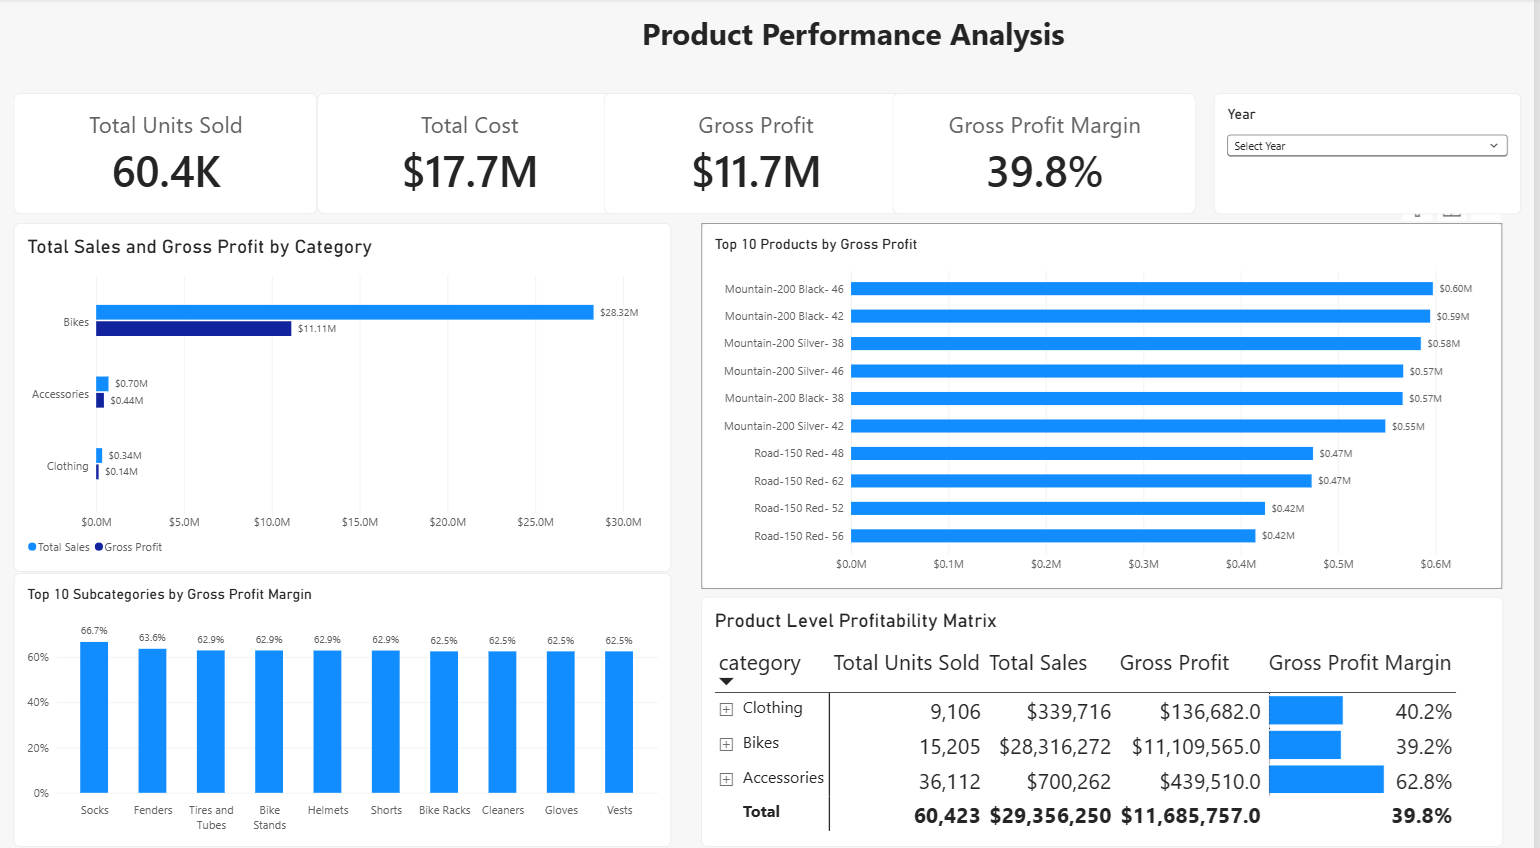

The dashboard page shown, as its layout file describes it:
{"tool":"powerbi","page":{"name":"Product Performance","canvas":[1920,1080],"ordinal":1},"visuals":[{"type":"textbox","box":[758.7,18,622,100.7],"z":0},{"type":"cardVisual","fields":{"Data":["gold_datasets sales.Total Units Sold"]},"box":[23.8,119,378.7,151.5],"z":1000},{"type":"cardVisual","fields":{"Data":["gold_datasets sales.Total Cost"]},"box":[402.5,119,378.7,151.5],"z":2000},{"type":"cardVisual","fields":{"Data":["gold_datasets sales.Gross Profit"]},"box":[759.6,119,378.7,151.5],"z":3000},{"type":"cardVisual","fields":{"Data":["gold_datasets sales.Gross Profit Margin"]},"box":[1118.9,119,378.7,151.5],"z":4000},{"type":"clusteredBarChart","title":"Total Sales and Gross Profit by Category","fields":{"Category":["gold_datasets products.category"],"Y":["gold_datasets sales.Total Sales","gold_datasets sales.Gross Profit"]},"box":[23.8,281.3,820.2,435],"z":5000},{"type":"clusteredBarChart","title":"Top 10 Products by Gross Profit","fields":{"Category":["gold_datasets products.product_name"],"Y":["gold_datasets sales.Gross Profit"]},"box":[880.9,280.4,999.6,456.6],"z":6000},{"type":"clusteredColumnChart","title":"Top 10 Subcategories by Gross Profit Margin","fields":{"Category":["gold_datasets products.subcategory"],"Y":["gold_datasets sales.Gross Profit Margin"]},"box":[23.8,716.3,820.2,341.9],"z":7000},{"type":"pivotTable","title":"Product Level Profitability Matrix","fields":{"Rows":["gold_datasets products.category","gold_datasets products.subcategory","gold_datasets products.product_name"],"Values":["gold_datasets sales.Total Units Sold","gold_datasets sales.Total Sales","gold_datasets sales.Gross Profit","gold_datasets sales.Gross Profit Margin"]},"box":[880.8,746.6,999.8,311.6],"z":8000},{"type":"listSlicer","fields":{"Values":["gold_datasets sales.order_date.Variation.Date Hierarchy.Year"]},"box":[1519.2,119,383,151],"z":8001}]}

Visuals, with their boxes in screenshot pixels (x1, y1, x2, y2), scaled from the page's 1920x1080 canvas onto the 1540x848 screenshot:
textbox: (left=609, top=14, right=1107, bottom=93)
cardVisual - gold_datasets sales.Total Units Sold: (left=19, top=93, right=323, bottom=212)
cardVisual - gold_datasets sales.Total Cost: (left=323, top=93, right=627, bottom=212)
cardVisual - gold_datasets sales.Gross Profit: (left=609, top=93, right=913, bottom=212)
cardVisual - gold_datasets sales.Gross Profit Margin: (left=897, top=93, right=1201, bottom=212)
"Total Sales and Gross Profit by Category" clusteredBarChart: (left=19, top=221, right=677, bottom=562)
"Top 10 Products by Gross Profit" clusteredBarChart: (left=707, top=220, right=1508, bottom=579)
"Top 10 Subcategories by Gross Profit Margin" clusteredColumnChart: (left=19, top=562, right=677, bottom=831)
"Product Level Profitability Matrix" pivotTable: (left=706, top=586, right=1508, bottom=831)
listSlicer - gold_datasets sales.order_date.Variation.Date Hierarchy.Year: (left=1219, top=93, right=1526, bottom=212)
